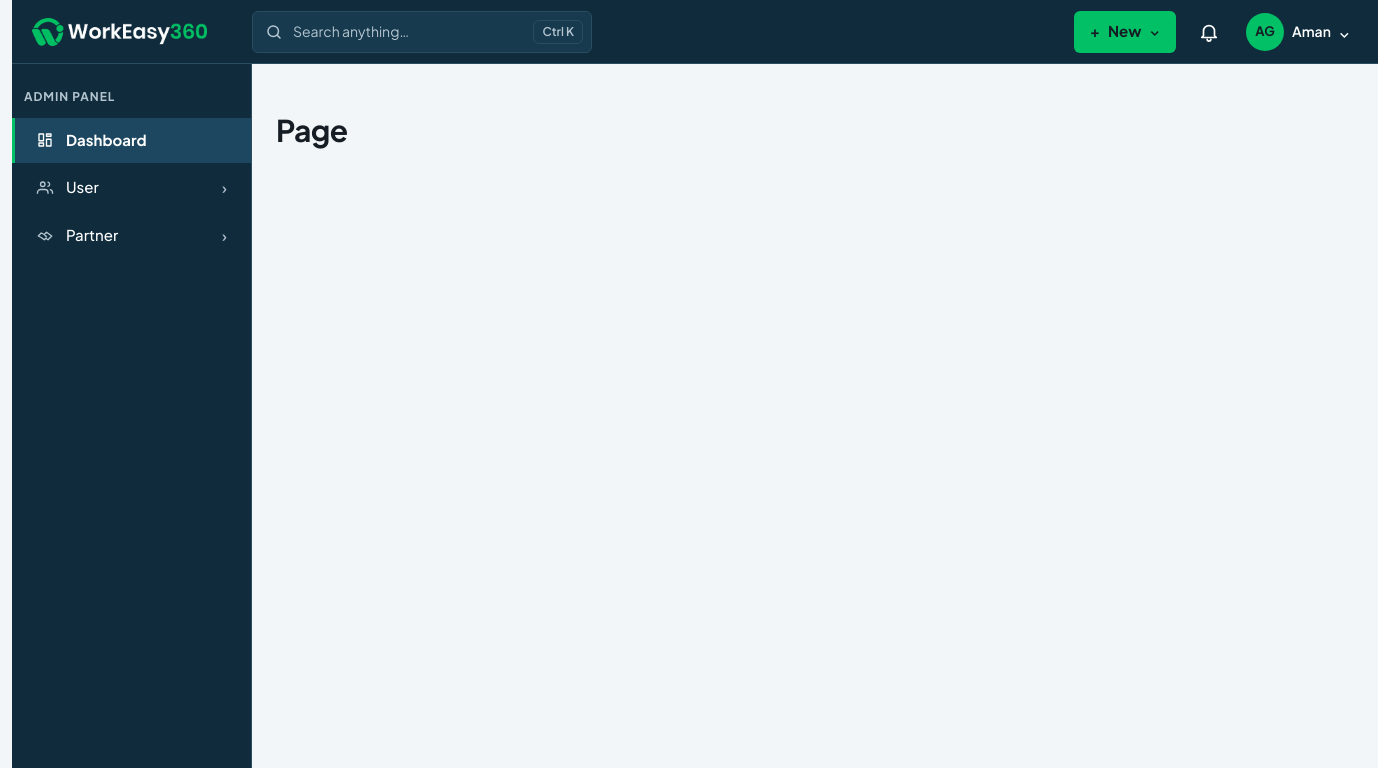
Test: the Super Admin top bar › offers in New only what the staff member may create, and nothing without a grant
Step 1. Click the button "+ New ⌄" → x=1125, y=32, box [1074,10,1176,52]
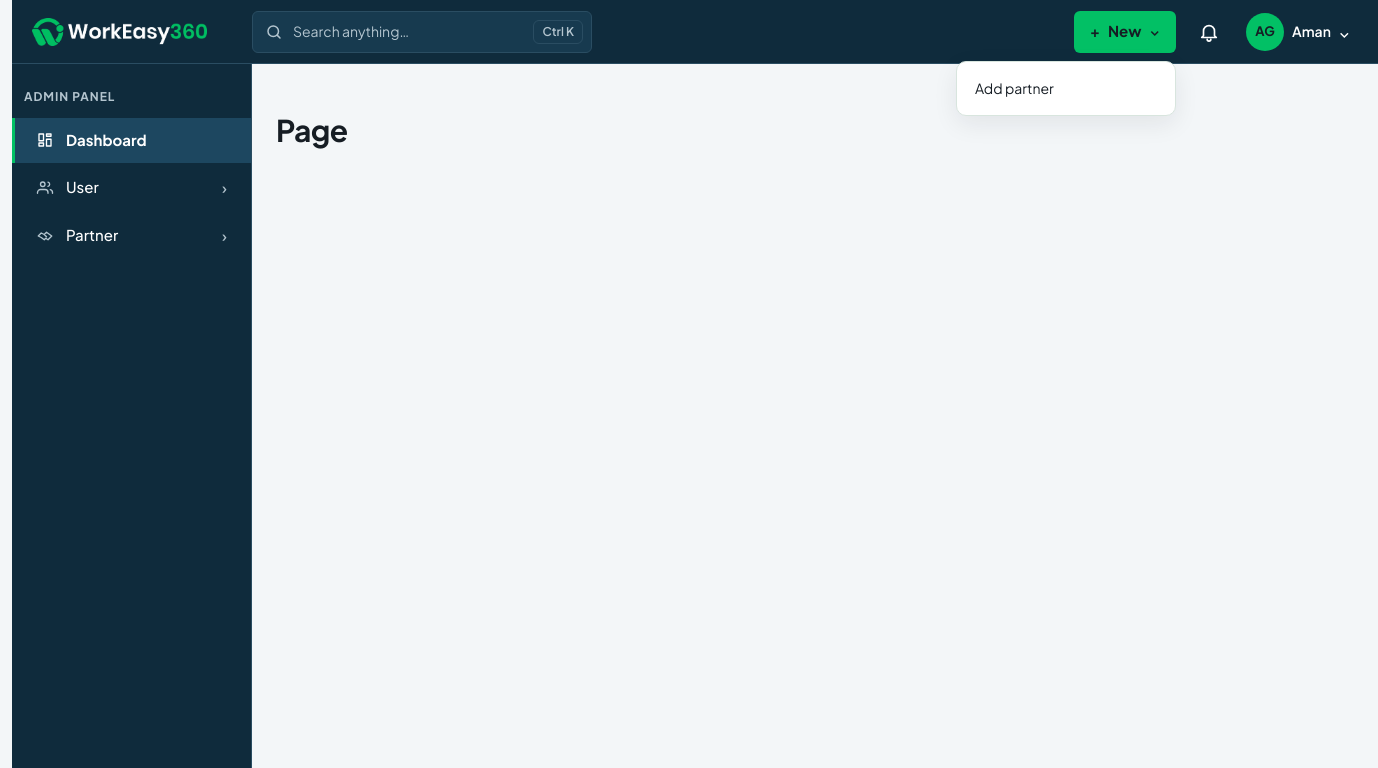
Expected: the menu items read "Add partner", in this order, [975,78,1054,96]
